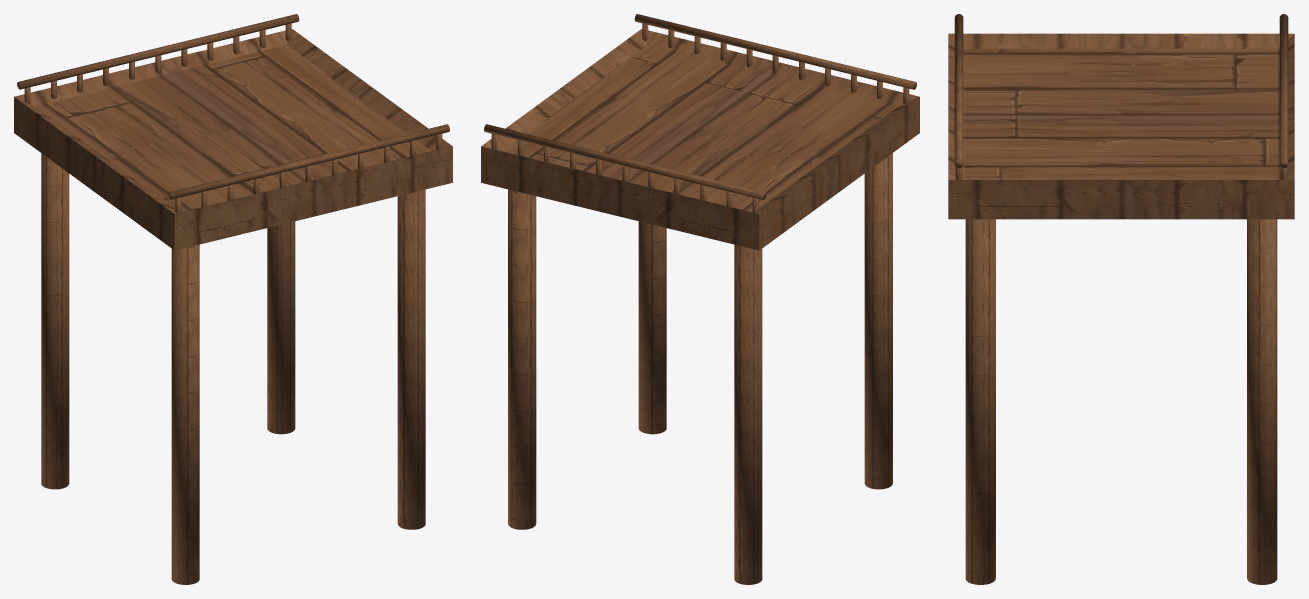
File: Splash16.fbx
The picture shows the model from 3 angles, left to right: view 1: azimuth 30°, elevation 25°; view 2: azimuth 150°, elevation 25°; view 3: azimuth 270°, elevation 25°; orthographic projection. The views are drawn at different scales.
Visible parts, largest first — view 1: Ground; view 2: Ground; view 3: Ground.
Part boxes in pixels (box(x1,y1,x2,y2)): Ground: box(14, 14, 452, 584); Ground: box(481, 14, 919, 584); Ground: box(948, 14, 1294, 584).
Bounding box in the file's own units: 1600 × 2200 × 1600.
